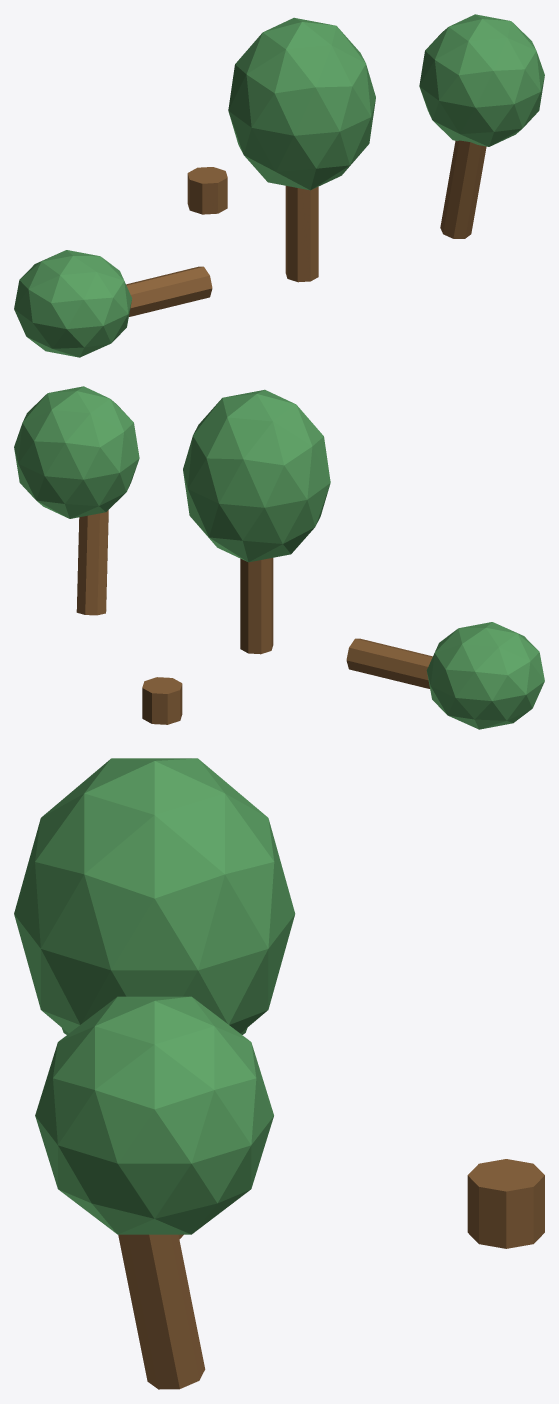
Rendered from SillyTreeKit.fbx.
3 renders of one model, top to bottom at view 1: azimuth 30°, elevation 25°; view 2: azimuth 150°, elevation 25°; view 3: azimuth 270°, elevation 25°, orthographic. The views are drawn at different scales.
Visible parts, largest first — view 1: StandingCrown, DamagedCrown, FallenCrown, StandingTrunk, DamagedTrunk, FallenTrunk, Stump; view 2: StandingCrown, DamagedCrown, FallenCrown, StandingTrunk, DamagedTrunk, FallenTrunk, Stump; view 3: StandingCrown, DamagedCrown, DamagedTrunk, Stump.
Boxes of the visible parts, <box> form: StandingCrown: <box>228,17,375,190</box>; DamagedCrown: <box>419,14,544,146</box>; FallenCrown: <box>14,250,132,357</box>; StandingTrunk: <box>285,186,318,282</box>; DamagedTrunk: <box>440,140,486,238</box>; FallenTrunk: <box>126,266,212,316</box>; Stump: <box>187,167,227,214</box>; StandingCrown: <box>183,389,330,562</box>; DamagedCrown: <box>14,386,139,518</box>; FallenCrown: <box>426,622,544,729</box>; StandingTrunk: <box>240,558,273,654</box>; DamagedTrunk: <box>76,510,108,615</box>; FallenTrunk: <box>346,638,432,688</box>; Stump: <box>142,677,182,724</box>; StandingCrown: <box>14,758,295,1033</box>; DamagedCrown: <box>35,996,273,1234</box>; DamagedTrunk: <box>118,1234,205,1389</box>; Stump: <box>467,1159,544,1248</box>.
Bounding box in the file's own units: 15.64 × 8 × 7.55.
